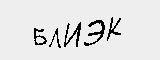М: (66, 14, 84, 34)
Т: (119, 16, 141, 40), (47, 13, 65, 33)
У: (84, 18, 99, 35)
Ч: (101, 20, 118, 35)
Қ: (20, 10, 50, 37)
